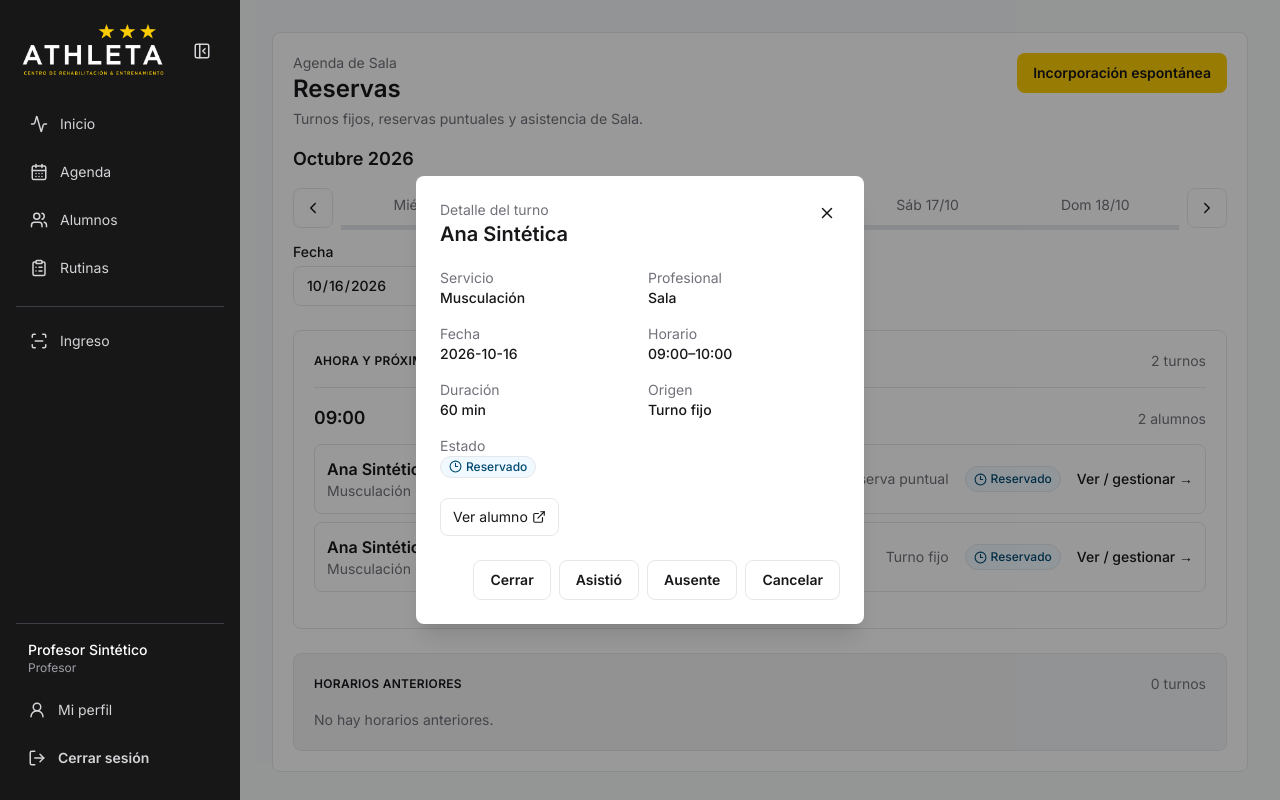
Test case: opens the exact Sala booking from Home and attends it through the existing operation once
Expected: the date field named "Fecha de reservas" holds "2026-10-16", [293,266,447,306]
Expected: the text "Detalle del turno" is shown, [440,201,549,218]
Click the button "Asistió" at point(599, 580), box [559,560,639,600]
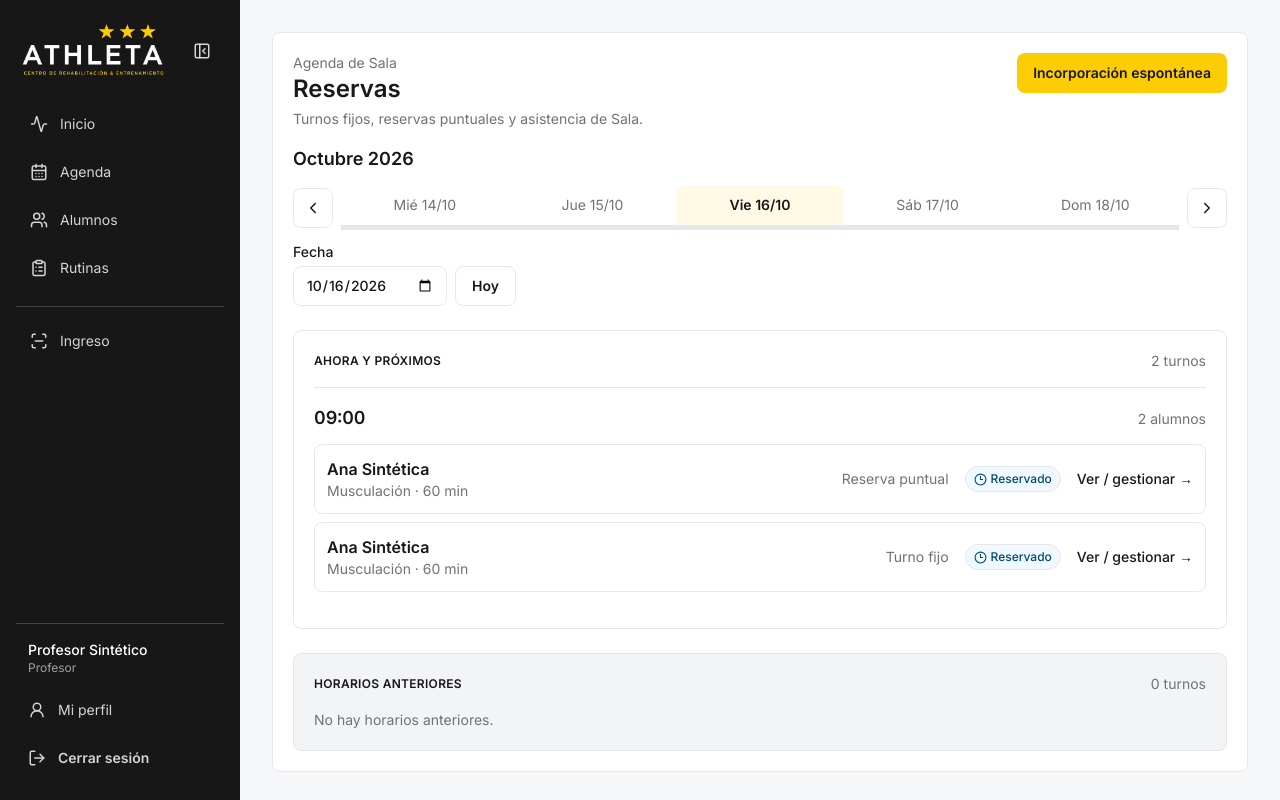
Result: the dialog is gone
